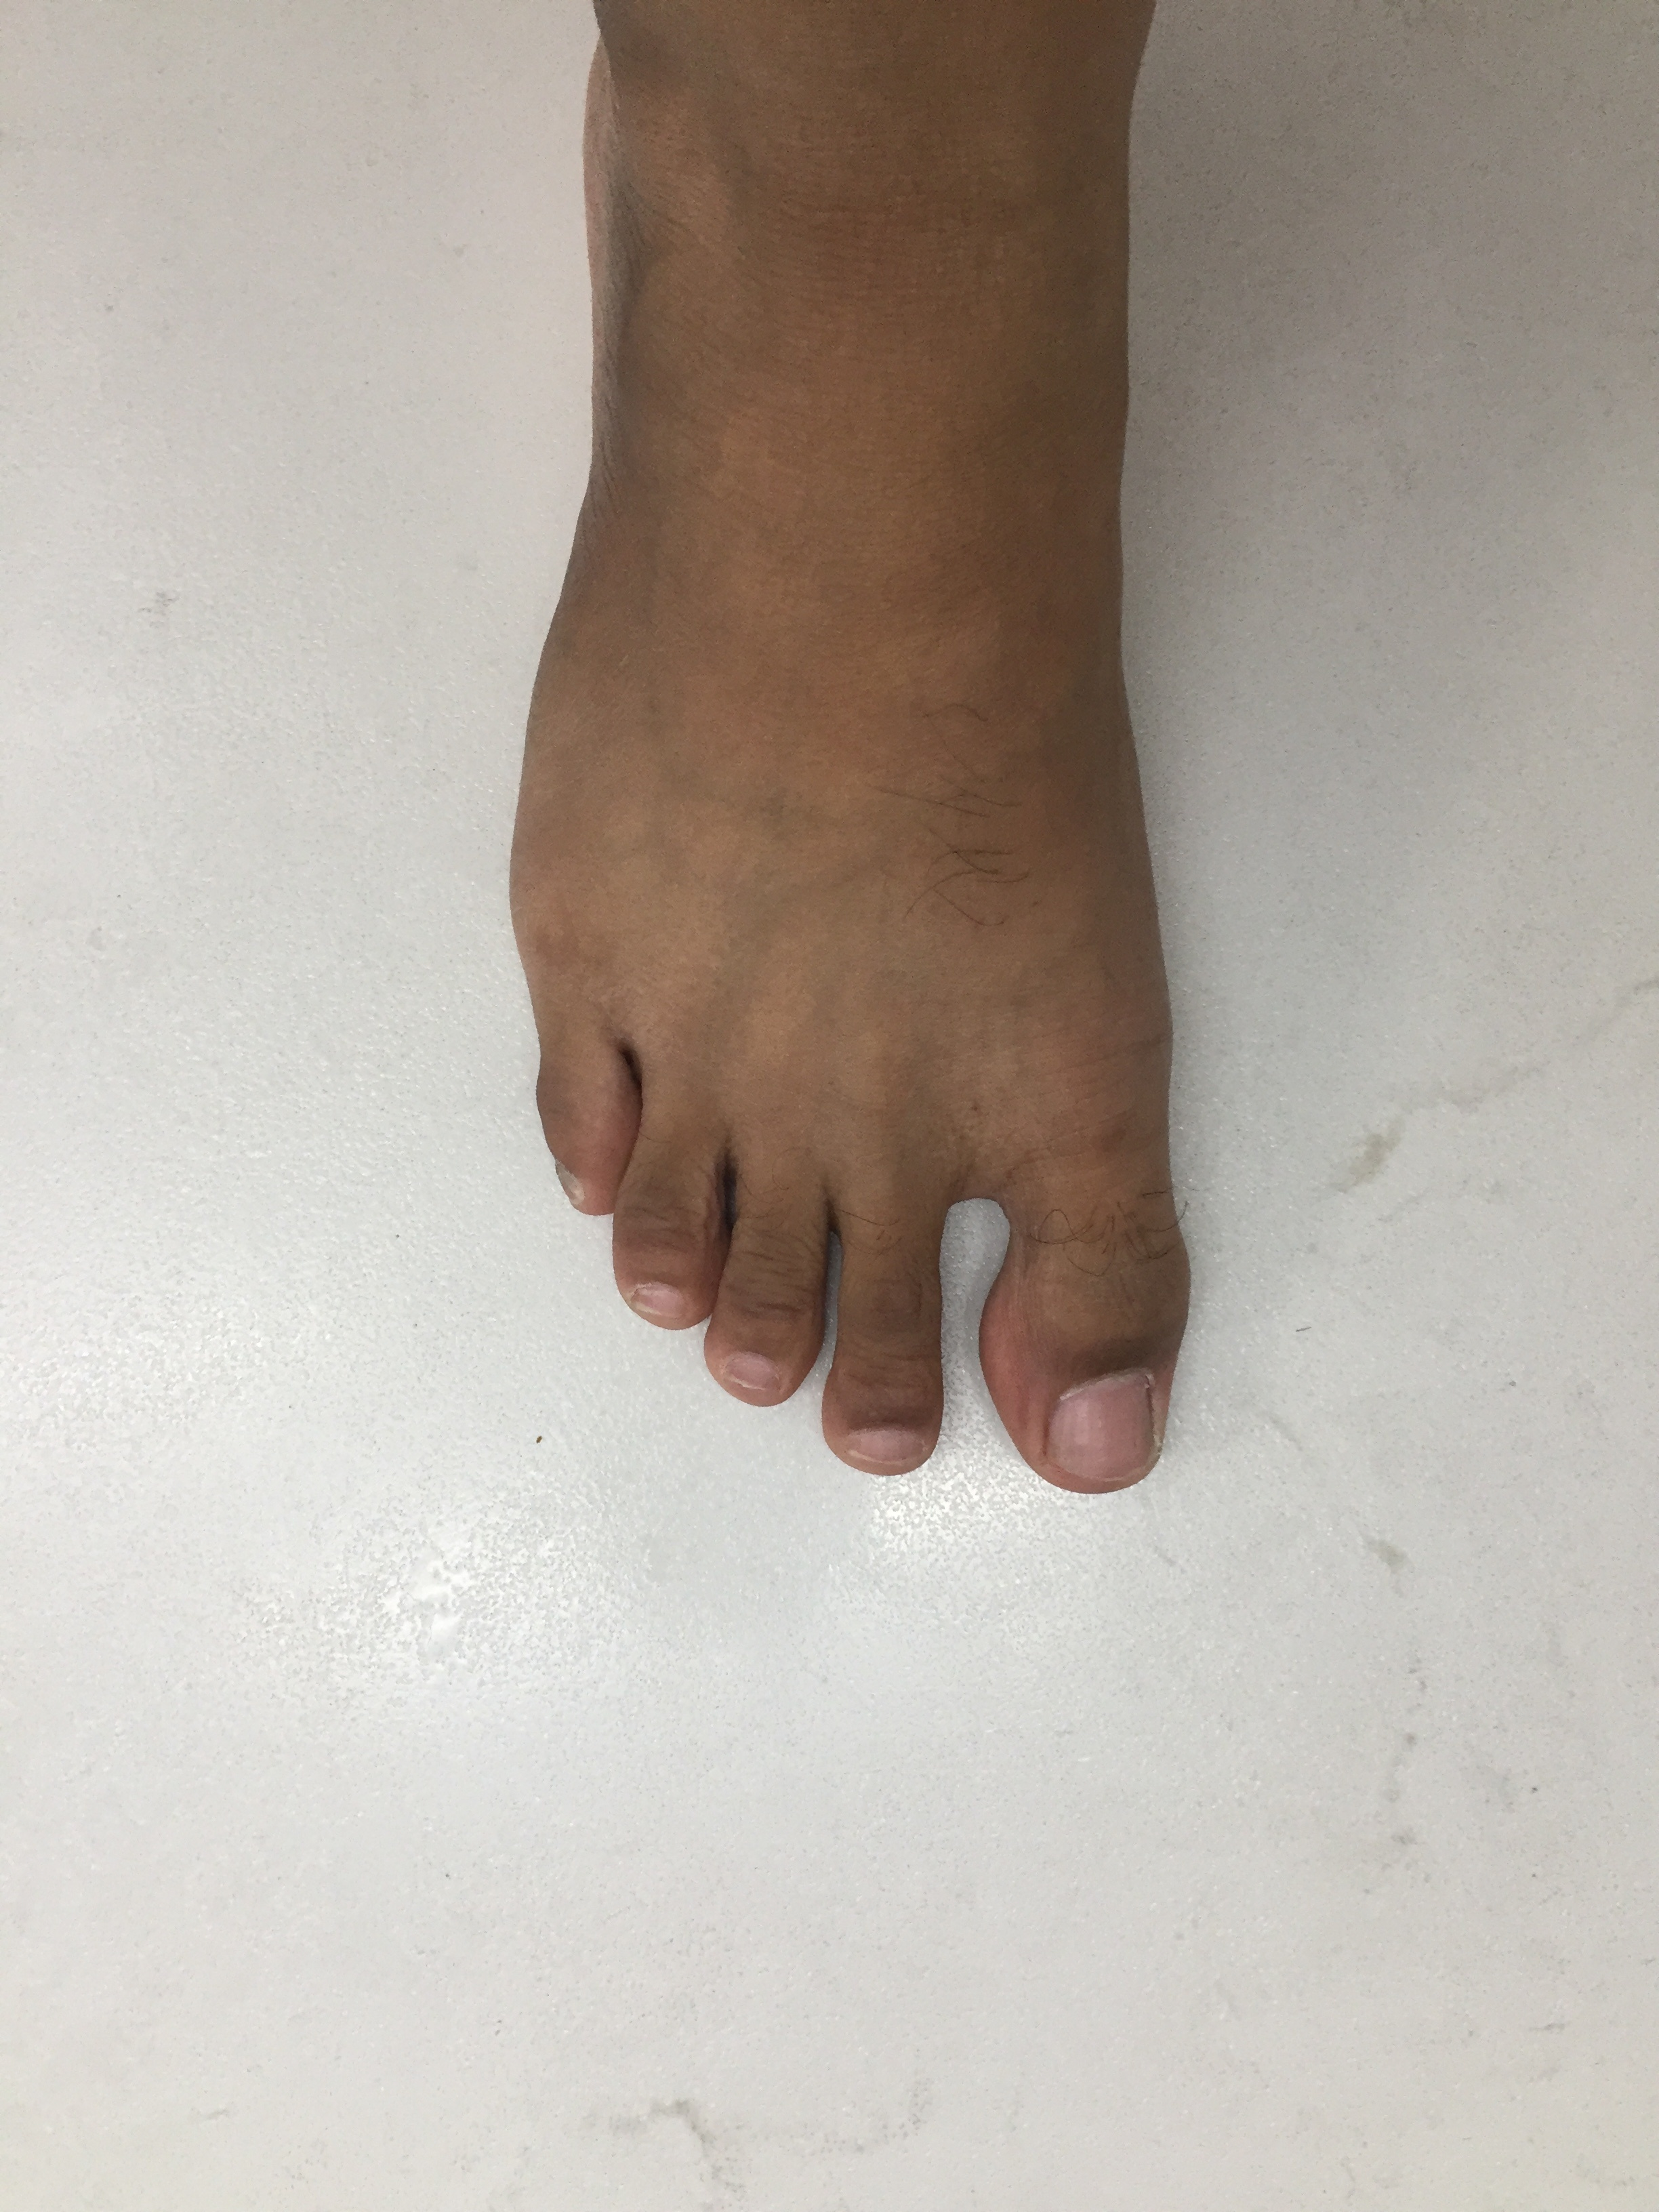feet: (380, 19, 1194, 1515)
